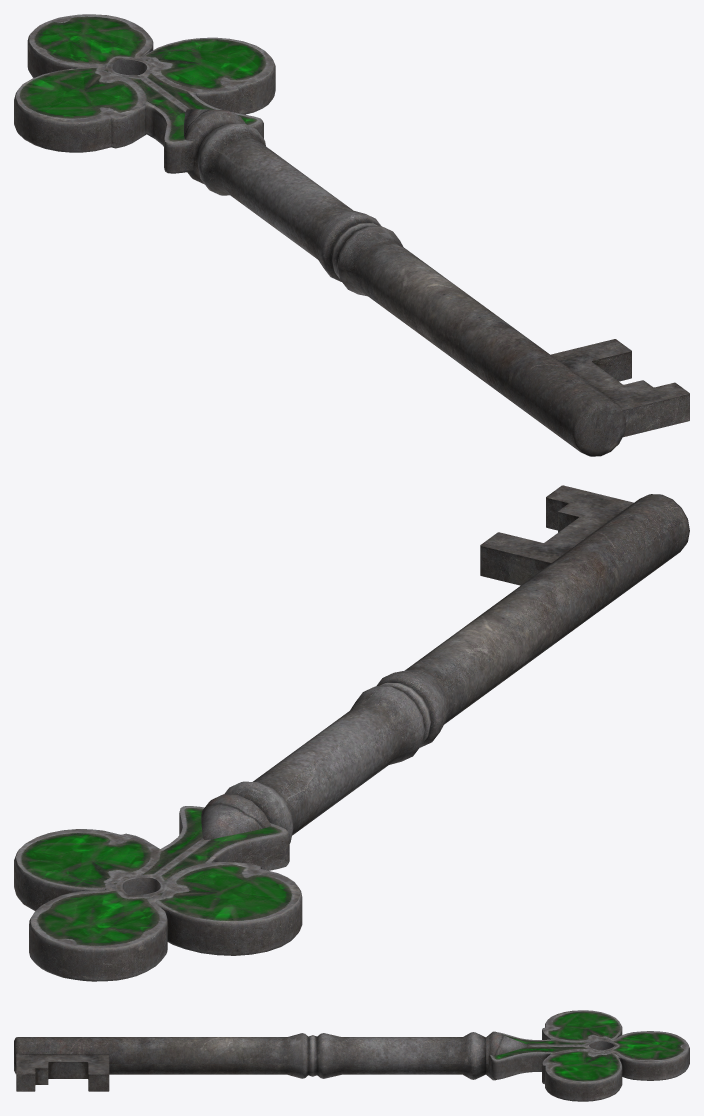
The model's file is sm73_300_clubkey01a.fbx.
3 views of the same model, one above another, from view 1: azimuth 30°, elevation 25°; view 2: azimuth 150°, elevation 25°; view 3: azimuth 270°, elevation 25° (orthographic). The views are drawn at different scales.
Visible parts, largest first — view 1: LOD_1_Group_0_Sub_1__sm73_300_ClubKey01A_A_Mat; view 2: LOD_1_Group_0_Sub_1__sm73_300_ClubKey01A_A_Mat; view 3: LOD_1_Group_0_Sub_1__sm73_300_ClubKey01A_A_Mat.
Boxes of the visible parts, left/top/right/bottom form: LOD_1_Group_0_Sub_1__sm73_300_ClubKey01A_A_Mat: left=14, top=14, right=689, bottom=456; LOD_1_Group_0_Sub_1__sm73_300_ClubKey01A_A_Mat: left=14, top=485, right=689, bottom=981; LOD_1_Group_0_Sub_1__sm73_300_ClubKey01A_A_Mat: left=14, top=1010, right=689, bottom=1101.
Size of the model in its own units: 0.0308 by 0.00861 by 0.1193.
